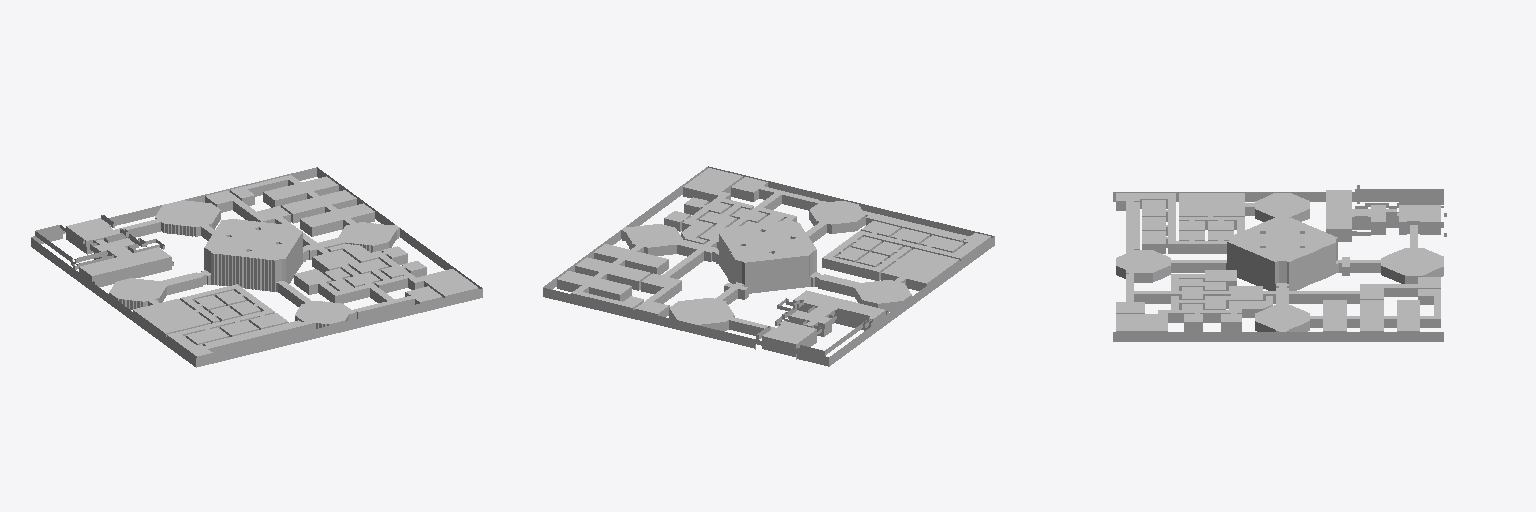
File: twilite.obj
3 renders of one model, left to right at view 1: azimuth 30°, elevation 25°; view 2: azimuth 150°, elevation 25°; view 3: azimuth 270°, elevation 25°, orthographic.
Visible parts, largest first — view 1: Twilite; view 2: Twilite; view 3: Twilite.
Part boxes in pixels (left/top/right/bottom): Twilite: left=31, top=167, right=482, bottom=367; Twilite: left=543, top=166, right=994, bottom=366; Twilite: left=1113, top=185, right=1446, bottom=341.
Bounding box in the file's own units: 126 × 13.25 × 127.